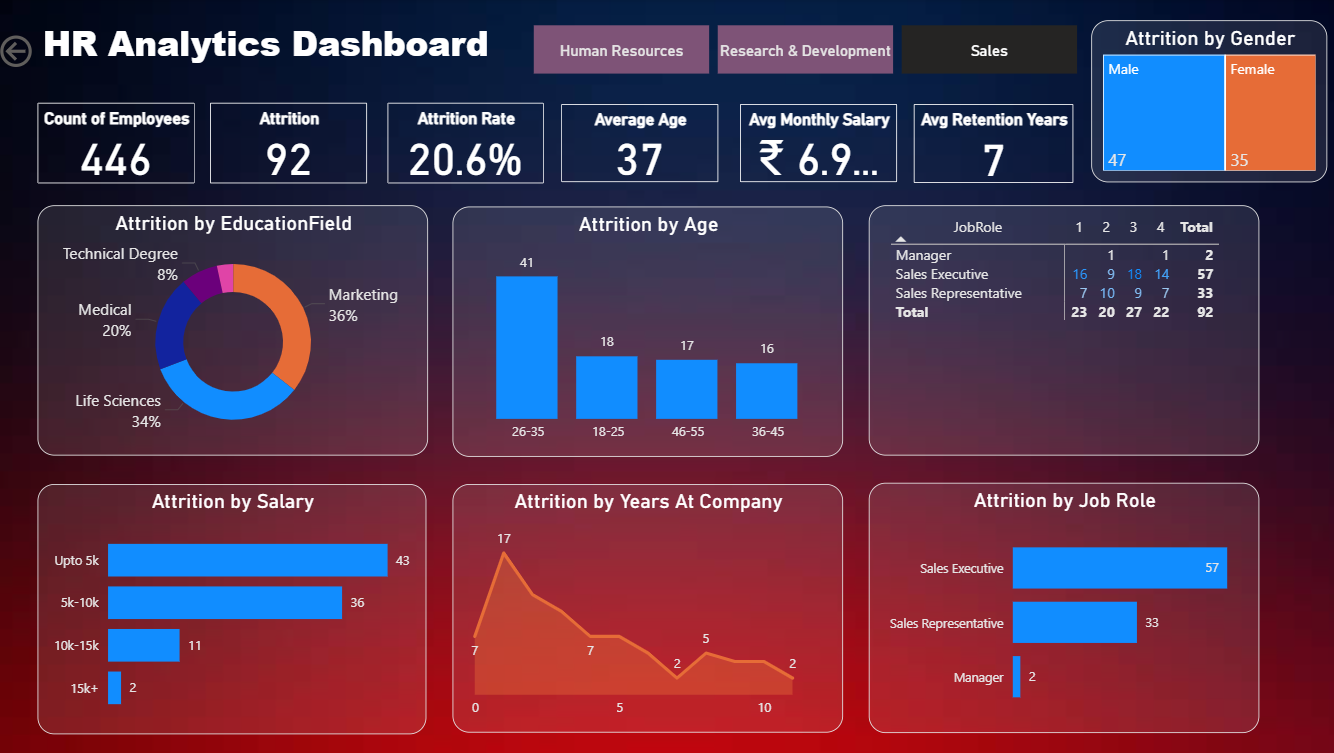

This screenshot's page, from the dashboard's own definition file:
{"tool":"powerbi","page":{"name":"Page 1","canvas":[1280,720],"ordinal":0},"visuals":[{"type":"card","title":"Count of Employees","fields":{"Values":["CountNonNull(HR_Analytics.EmpID)"]},"box":[40.7,98.3,149.8,76.7],"z":0},{"type":"actionButton","box":[0,30,100,40],"z":1000},{"type":"card","title":"Attrition","fields":{"Values":["HR_Analytics.Count of AttritionValue for 1"]},"box":[204.9,98.3,149.8,76.7],"z":2000},{"type":"card","title":"Attrition Rate","fields":{"Values":["HR_Analytics.AttritionRate"]},"box":[373.9,98.3,148.6,76.7],"z":3000},{"type":"card","title":"Average Age","fields":{"Values":["Avg(HR_Analytics.Age)"]},"box":[539.3,99.5,149.8,74.3],"z":4000},{"type":"card","title":"Avg Retention Years","fields":{"Values":["Avg(HR_Analytics.YearsAtCompany)"]},"box":[874.9,99.5,152.2,75.5],"z":5000},{"type":"card","title":"Avg Monthly Salary","fields":{"Values":["Avg(HR_Analytics.MonthlyIncome)"]},"box":[709.5,99.5,149.8,74.3],"z":6000},{"type":"donutChart","title":"Attrition by EducationField","fields":{"Y":["CountNonNull(HR_Analytics.Attrition)"],"Category":["HR_Analytics.EducationField"]},"box":[40.4,195.9,372.2,238.1],"z":7000},{"type":"pivotTable","fields":{"Rows":["HR_Analytics.JobRole"],"Columns":["HR_Analytics.JobSatisfaction"],"Values":["HR_Analytics.Count of AttritionValue for 1"]},"box":[832.5,196.2,372.2,238.1],"z":8000},{"type":"barChart","title":"Attrition by Salary","fields":{"Category":["HR_Analytics.SalarySlab"],"Y":["HR_Analytics.Count of AttritionValue for 1"]},"box":[40.4,461.4,370.8,238.1],"z":9000},{"type":"barChart","title":"Attrition by Job Role","fields":{"Category":["HR_Analytics.JobRole"],"Y":["HR_Analytics.Count of AttritionValue for 1"]},"box":[832.5,460.2,372.2,238.1],"z":10000},{"type":"columnChart","title":"Attrition by Age","fields":{"Category":["HR_Analytics.AgeGroup"],"Y":["HR_Analytics.Count of AttritionValue for 1"]},"box":[435.7,197.7,372.2,238.1],"z":11000},{"type":"areaChart","title":"Attrition by Years At Company","fields":{"Category":["HR_Analytics.YearsAtCompany"],"Y":["HR_Analytics.Count of AttritionValue Count"]},"box":[435.7,461.7,372.2,236.6],"z":12000},{"type":"treemap","title":"Attrition by Gender","fields":{"Group":["HR_Analytics.Gender"],"Values":["HR_Analytics.Count of AttritionValue Count"]},"box":[1044.6,20.2,225.1,154.4],"z":13000},{"type":"advancedSlicerVisual","fields":{"Values":["HR_Analytics.Department"]},"box":[508.2,20.4,527.3,56.3],"z":14000},{"type":"textbox","box":[40.4,14.4,506.4,83.7],"z":15000}]}

Visuals, with their boxes in screenshot pixels (x1, y1, x2, y2), scaled from the page's 1280x720 canvas onto the 1334x753 screenshot:
"Count of Employees" card: Rect(42, 103, 199, 183)
actionButton: Rect(0, 31, 104, 73)
"Attrition" card: Rect(214, 103, 370, 183)
"Attrition Rate" card: Rect(390, 103, 545, 183)
"Average Age" card: Rect(562, 104, 718, 182)
"Avg Retention Years" card: Rect(912, 104, 1070, 183)
"Avg Monthly Salary" card: Rect(739, 104, 896, 182)
"Attrition by EducationField" donutChart: Rect(42, 205, 430, 454)
pivotTable - HR_Analytics.JobRole x HR_Analytics.JobSatisfaction: Rect(868, 205, 1256, 454)
"Attrition by Salary" barChart: Rect(42, 483, 429, 732)
"Attrition by Job Role" barChart: Rect(868, 481, 1256, 730)
"Attrition by Age" columnChart: Rect(454, 207, 842, 456)
"Attrition by Years At Company" areaChart: Rect(454, 483, 842, 730)
"Attrition by Gender" treemap: Rect(1089, 21, 1323, 183)
advancedSlicerVisual - HR_Analytics.Department: Rect(530, 21, 1079, 80)
textbox: Rect(42, 15, 570, 103)
